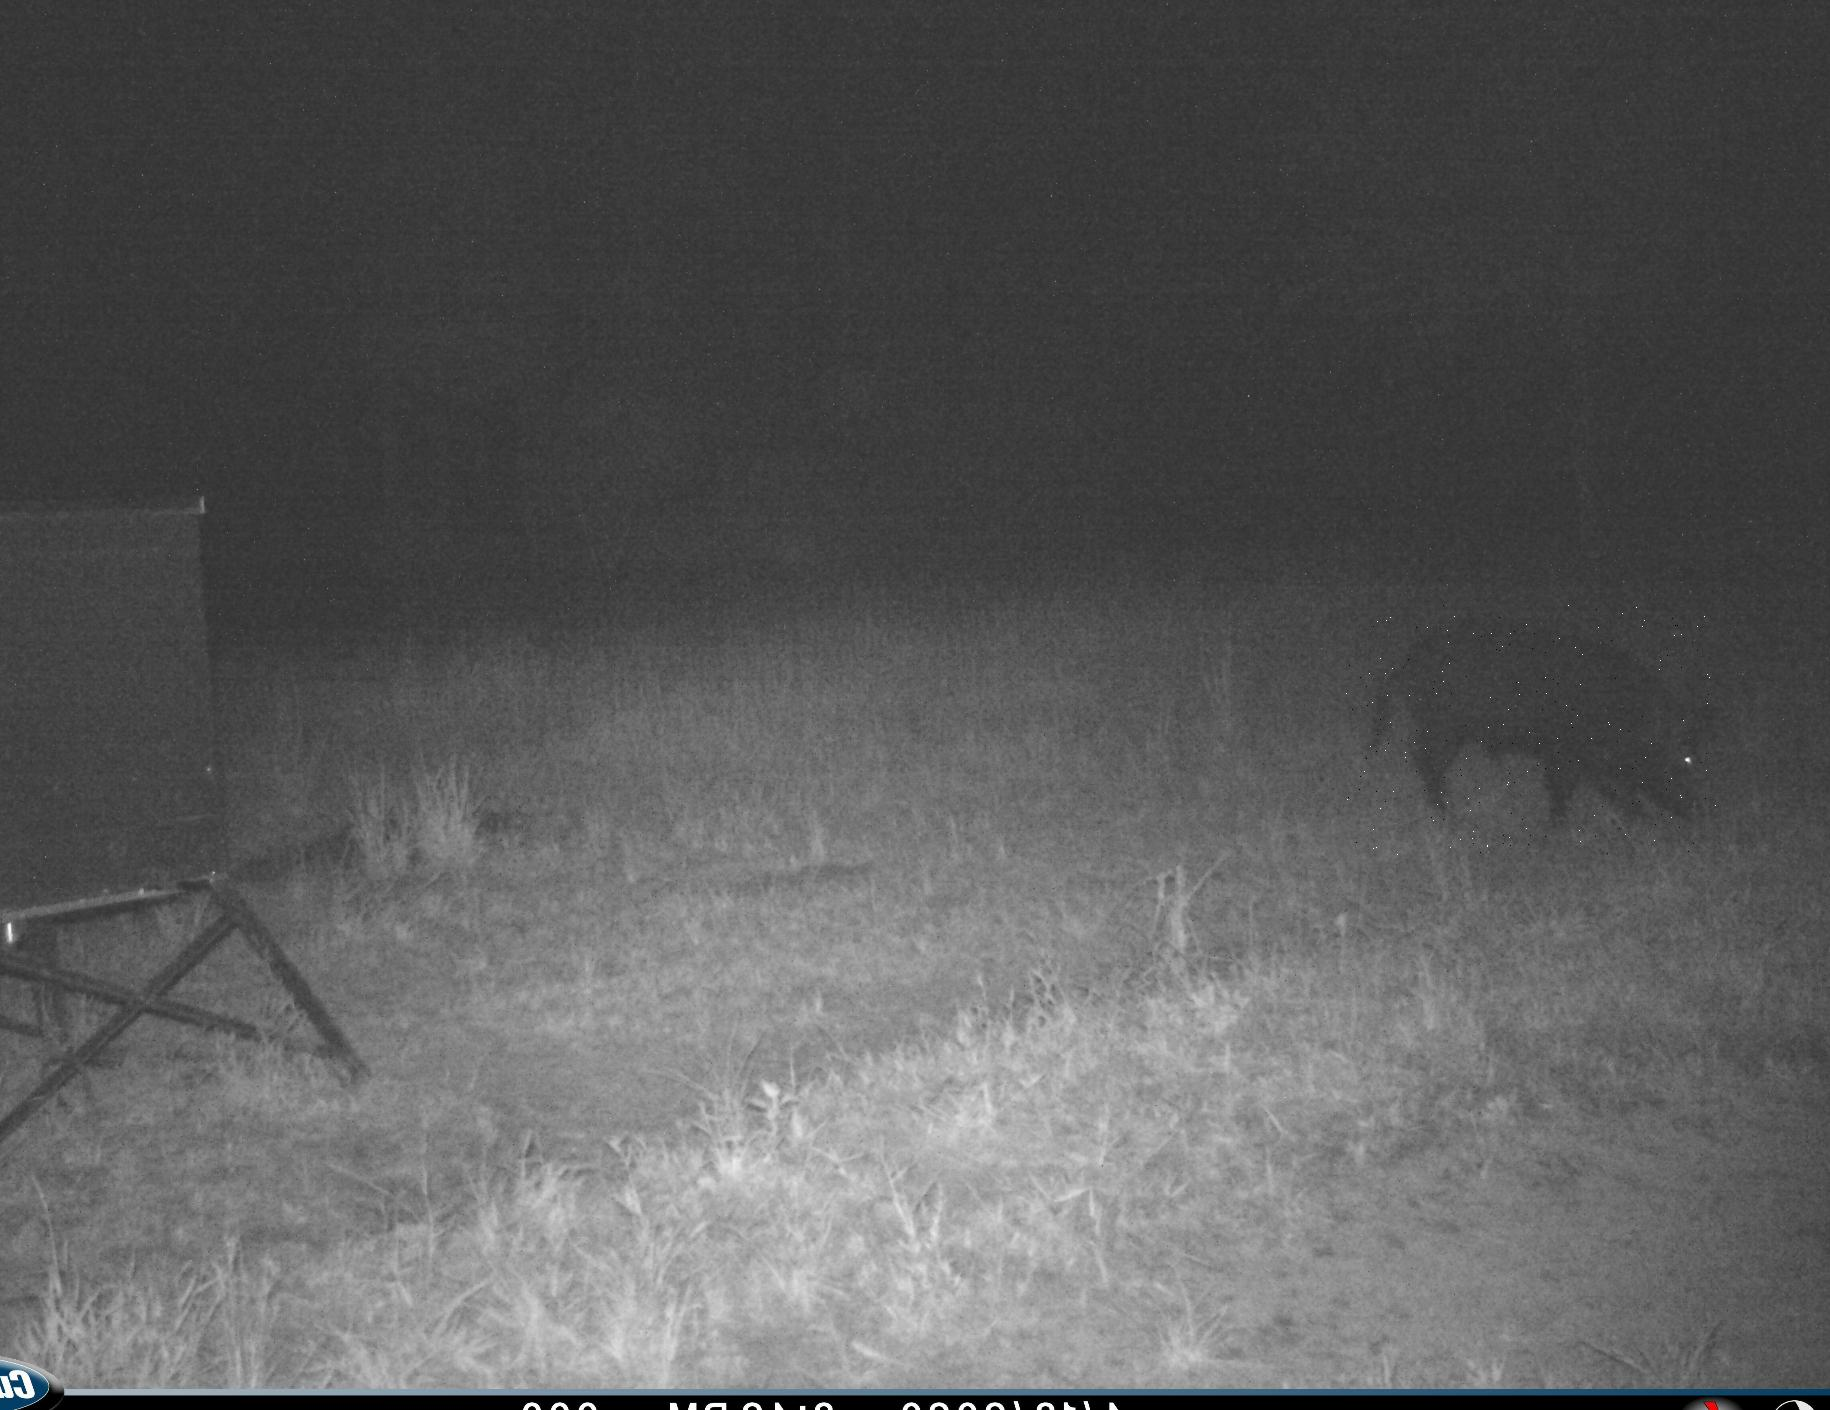Hog: (1346, 601, 1717, 856)
